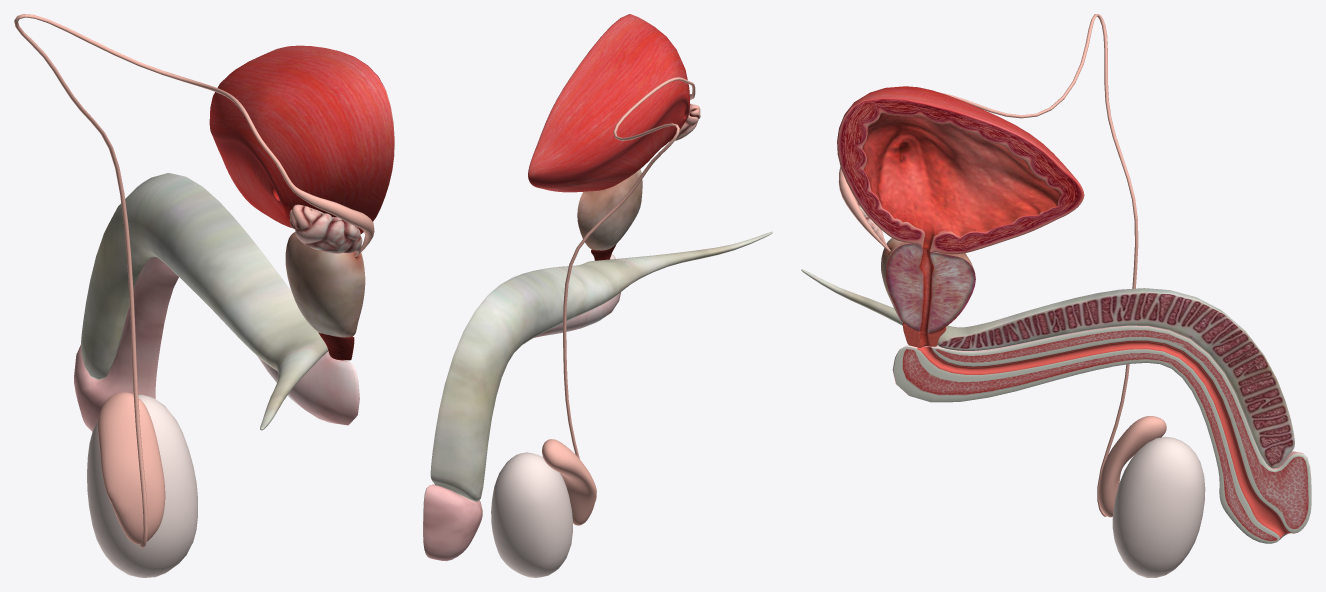
File: Bladder.glb
The picture shows the model from 3 angles, left to right: view 1: azimuth 30°, elevation 25°; view 2: azimuth 150°, elevation 25°; view 3: azimuth 270°, elevation 25°; orthographic projection. The views are drawn at different scales.
Parts seen in each view (by area): view 1: male.004; view 2: male.004; view 3: male.004.
Part boxes in pixels (x1,y1,x2,y2): male.004: (14, 14, 394, 577); male.004: (423, 14, 772, 577); male.004: (801, 14, 1311, 577).
Size of the model in its own units: 2.9 by 7.96 by 7.39.
Materials: 5 (5 with a texture image).
